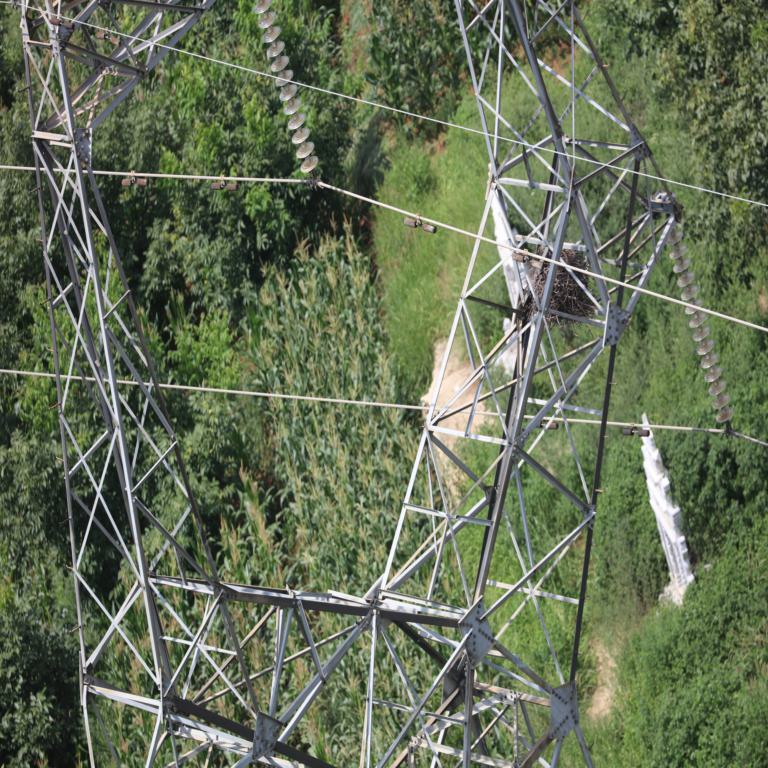nest: (523, 253, 591, 326)
